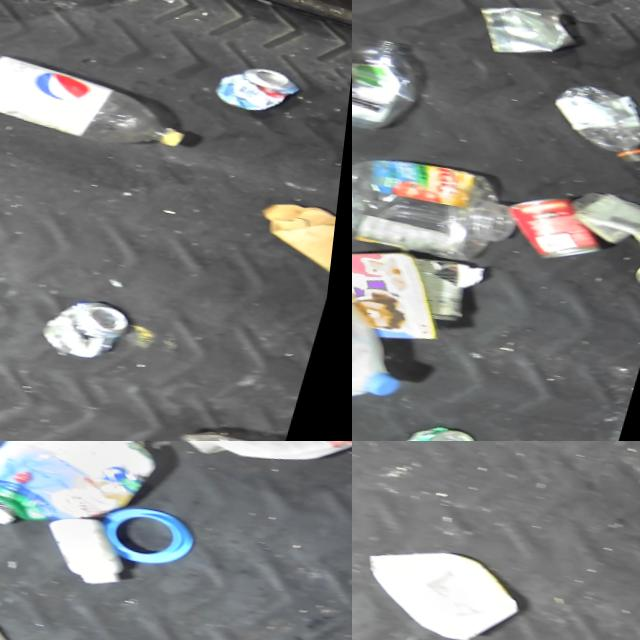can: (496, 183, 624, 268), (468, 0, 589, 66), (42, 290, 143, 363), (211, 57, 309, 118), (388, 412, 502, 441), (629, 245, 640, 303)
milk_jug: (352, 260, 440, 417)
non_white_jug: (0, 441, 170, 548)
plastic_bottle: (0, 39, 205, 155), (539, 75, 640, 165)
